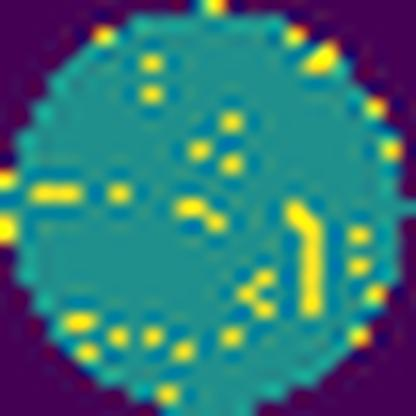Scratch: (281, 195, 330, 321)
